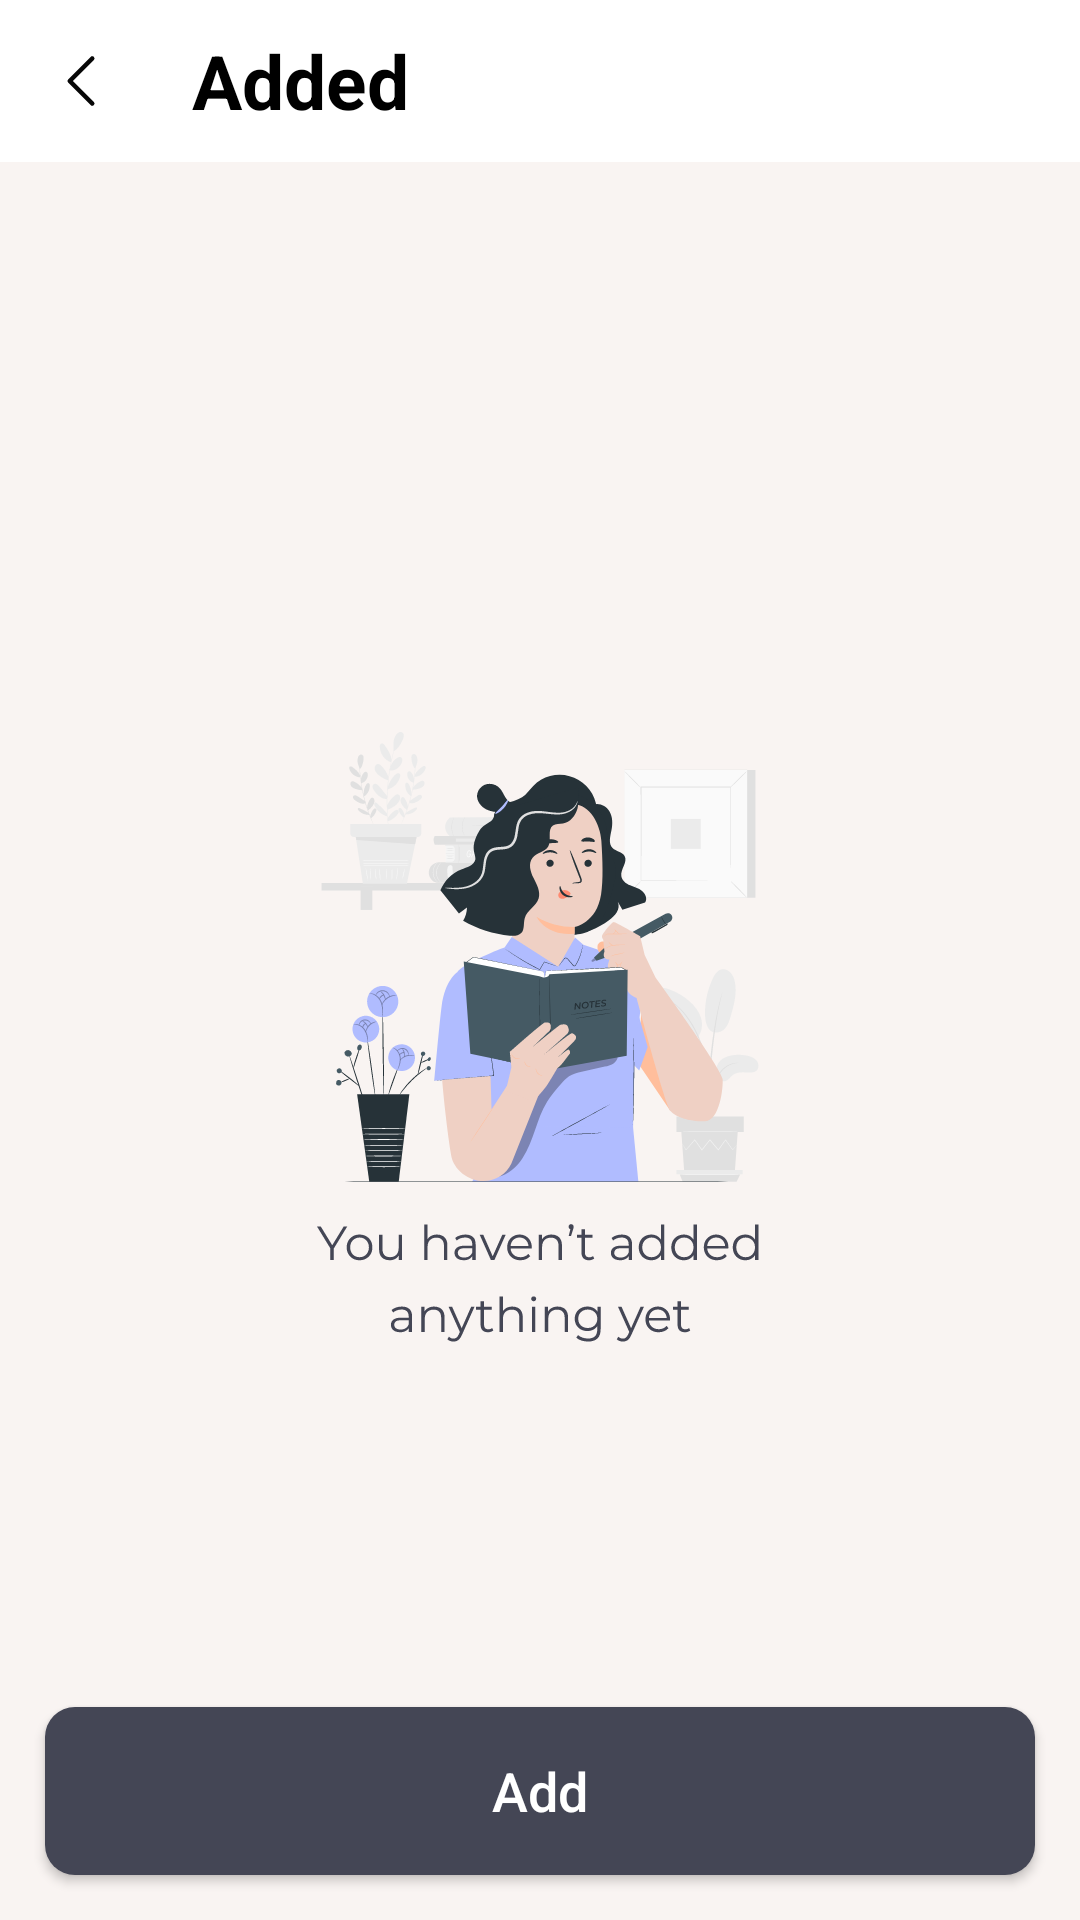

Icons on this 1080w x 1920h Android screen, each with the point to tap as [x,y]:
back: [81,81]
